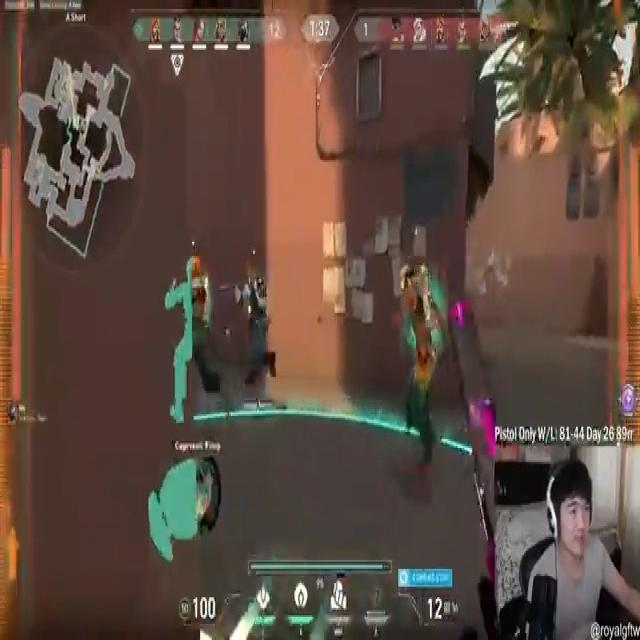ally: (398, 265, 452, 487), (168, 258, 224, 415), (230, 260, 278, 410)
